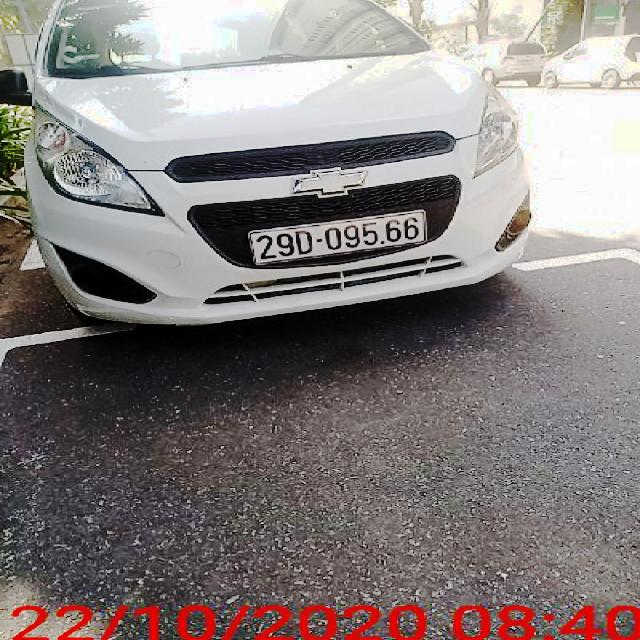license_plate: (255, 210, 427, 266)
